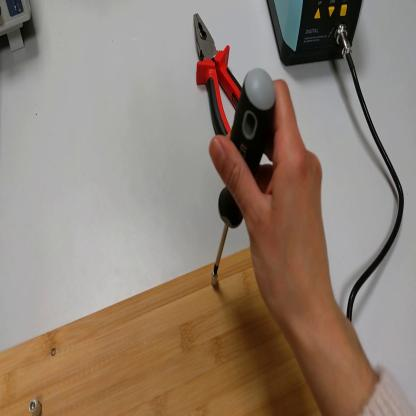hand: (211, 80, 334, 331)
oscilloscope: (1, 1, 35, 55)
pliers: (192, 9, 245, 136)
screwdriver-: (214, 67, 278, 275)
welder station: (264, 1, 364, 69)
working area: (1, 247, 323, 416)
